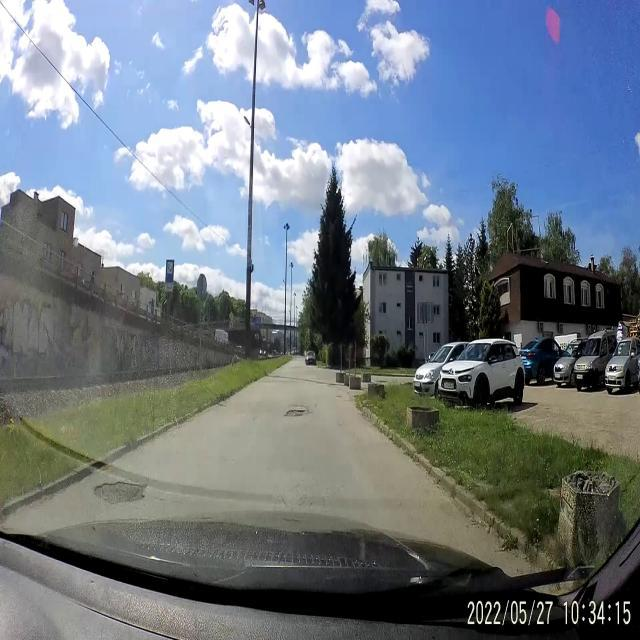Pothole: (91, 476, 150, 508), (284, 405, 314, 418), (333, 392, 344, 404), (326, 380, 338, 388), (315, 400, 318, 409), (344, 399, 352, 402)
